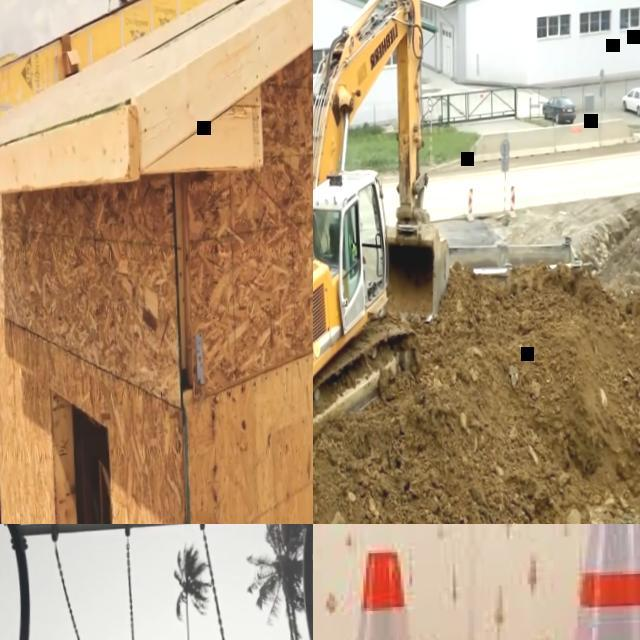vest: (349, 234, 356, 254)
